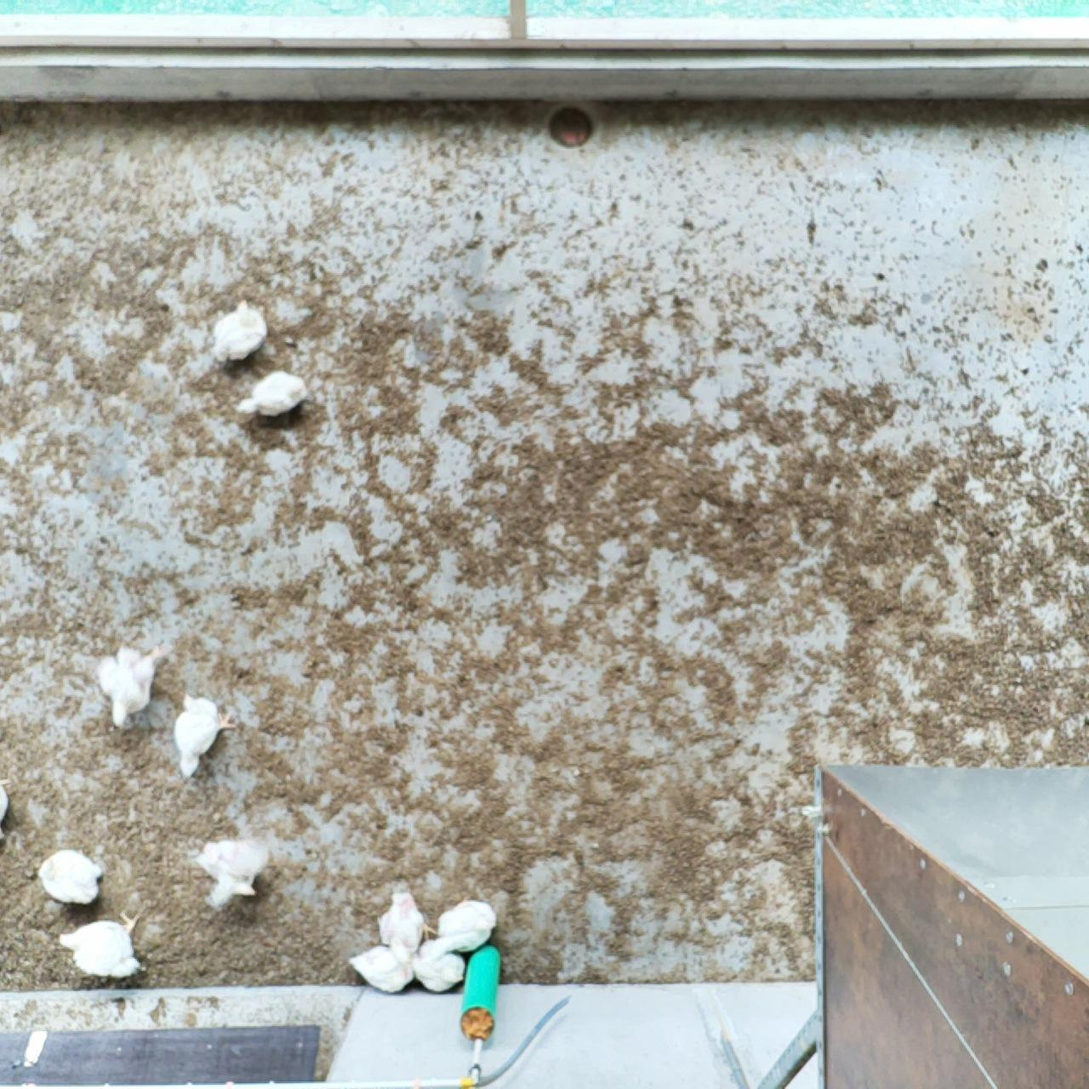chicken: (57, 905, 145, 978), (169, 689, 238, 781), (96, 641, 163, 735), (195, 835, 271, 910), (33, 842, 109, 906), (374, 891, 440, 961), (237, 363, 315, 421), (430, 895, 503, 955), (212, 294, 272, 363), (350, 934, 415, 995), (401, 946, 467, 995), (0, 774, 13, 845)
